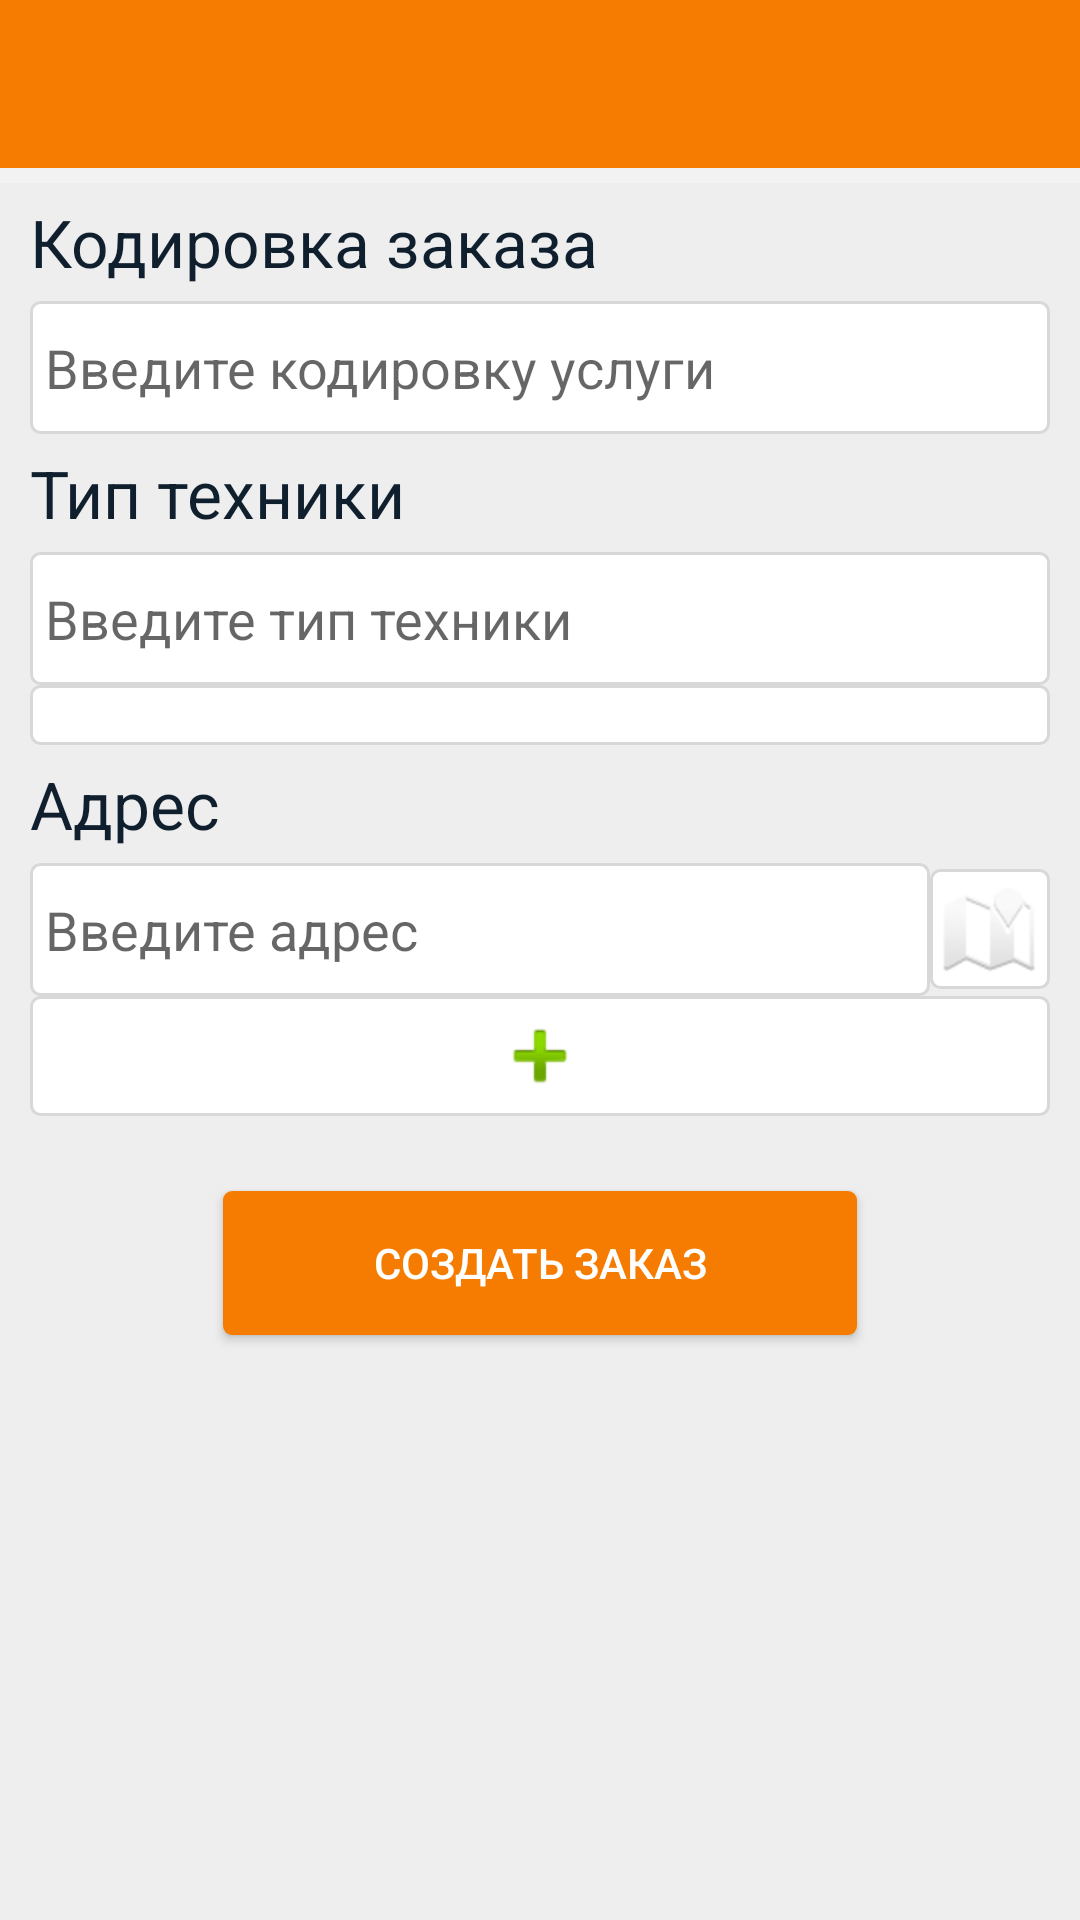

Locate icon controls on the screen. Image size 1080×1920, boxes as detection(x1, y1, x2, y2).
map: detection(930, 869, 1050, 989)
